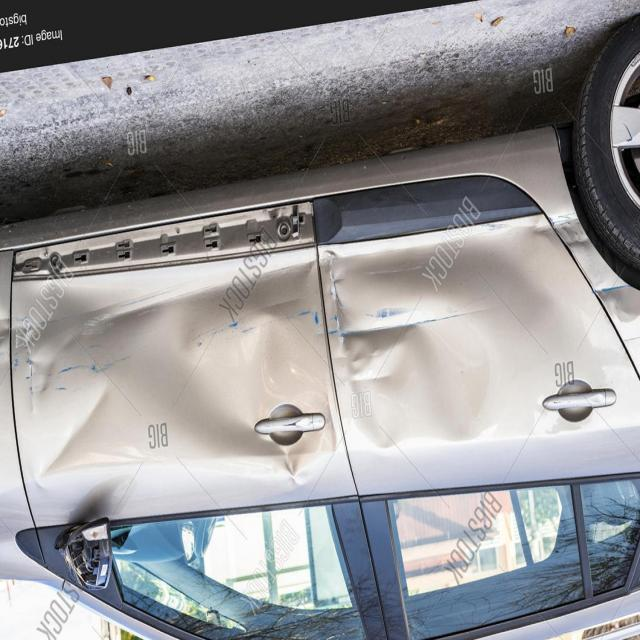dent: (8, 209, 320, 531), (330, 194, 640, 481)
